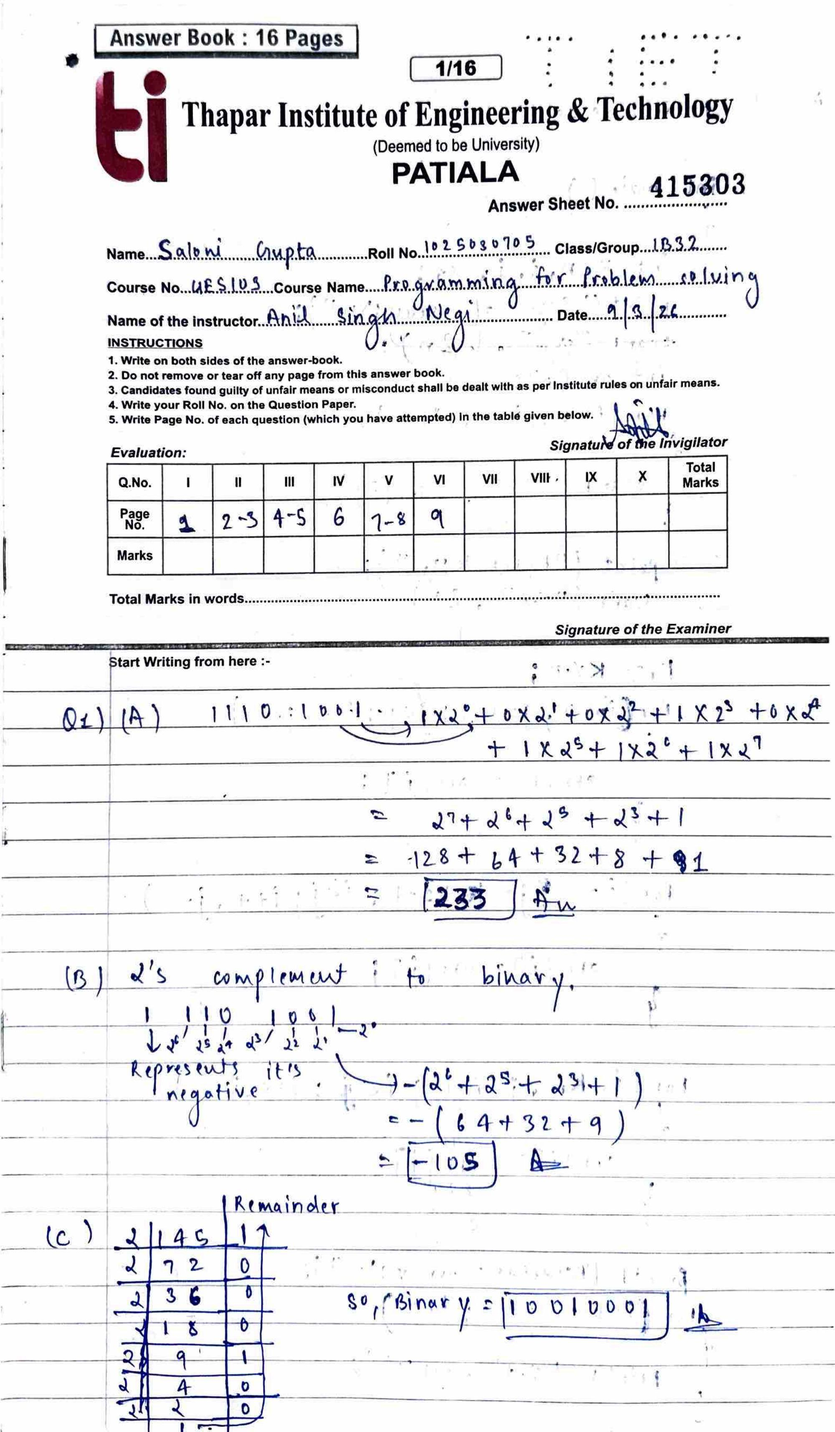cuttings: (527, 1147, 572, 1175), (673, 849, 688, 874)
